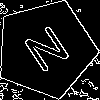N: (20, 24, 78, 83)
